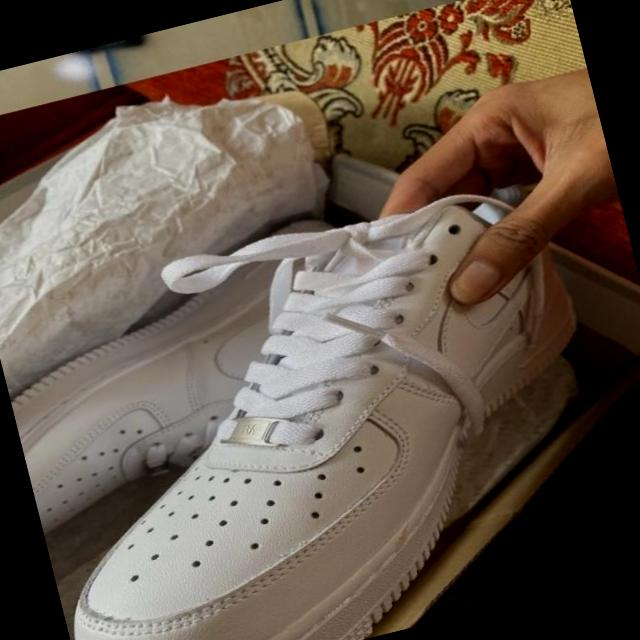nike_original_airforce: (0, 170, 639, 640), (0, 203, 410, 532)
